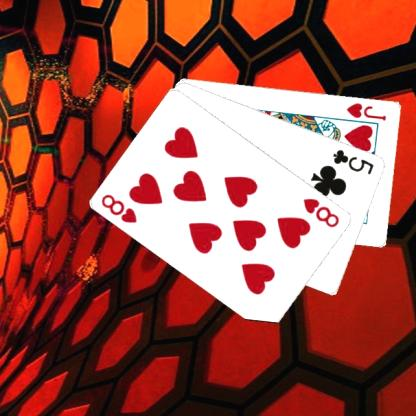5C: (330, 146, 376, 176)
8H: (300, 195, 342, 229), (98, 191, 138, 225)
JH: (344, 100, 388, 122)
